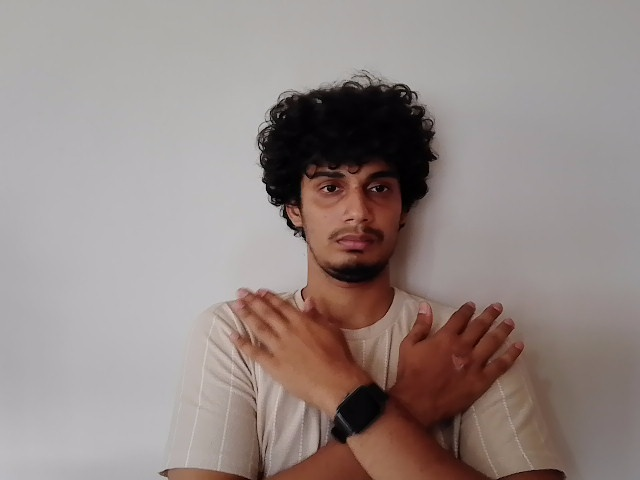relaxing: (236, 290, 527, 440)
